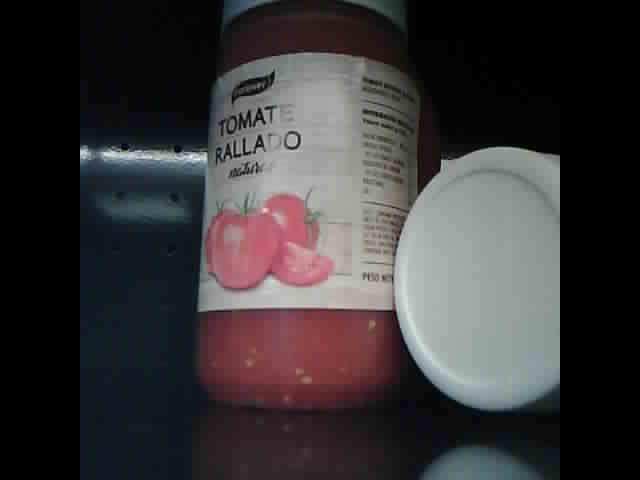tomate: (195, 4, 425, 414), (395, 147, 560, 415)
